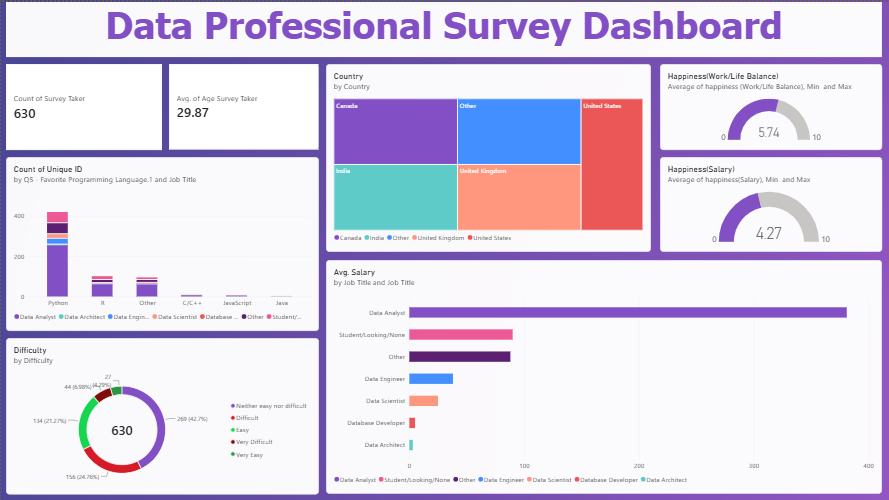

The page's visual inventory and layout, read from the dashboard file:
{"tool":"powerbi","page":{"name":"Page 1","canvas":[1920,1080],"ordinal":0},"visuals":[{"type":"textbox","box":[10.8,0,1892.2,118.8],"z":0},{"type":"cardVisual","fields":{"Data":["Count(Data Professional Survey.Unique ID)"]},"box":[10.8,133.9,337,185.8],"z":1000},{"type":"cardVisual","fields":{"Data":["Avg(Data Professional Survey.Q10 - Current Age)"]},"box":[363.5,133.9,323.1,185],"z":2000},{"type":"barChart","fields":{"Category":["Data Professional Survey.Q1 - Which Title Best Fits your Current Role?.1"],"Series":["Data Professional Survey.Q1 - Which Title Best Fits your Current Role?.1"],"Y":["CountNonNull(Data Professional Survey.Average Salary)"]},"box":[702,557.3,1201,505.4],"z":3000},{"type":"columnChart","fields":{"Category":["Data Professional Survey.Q5 - Favorite Programming Language.1"],"Series":["Data Professional Survey.Q1 - Which Title Best Fits your Current Role?.1"],"Y":["CountNonNull(Data Professional Survey.Unique ID)"]},"box":[10.6,333.8,676.1,376.3],"z":4000},{"type":"treemap","fields":{"Group":["Data Professional Survey.Q11 - Which Country do you live in?.1"],"Values":["Count(Data Professional Survey.Q11 - Which Country do you live in?.1)"]},"box":[701.6,133.9,701.6,406.1],"z":5000},{"type":"gauge","title":"Happiness(Work/Life Balance)","fields":{"MaxValue":["Max(Data Professional Survey.Q6 - How Happy are you in your Current Position with the following? (Work/Life Balance))"],"MinValue":["Min(Data Professional Survey.Q6 - How Happy are you in your Current Position with the following? (Work/Life Balance))"],"Y":["Avg(Data Professional Survey.Q6 - How Happy are you in your Current Position with the following? (Work/Life Balance))"]},"box":[1423.4,133.9,479.5,185.8],"z":6000},{"type":"gauge","title":"Happiness(Salary)","fields":{"MaxValue":["Max(Data Professional Survey.Q6 - How Happy are you in your Current Position with the following? (Salary))"],"MinValue":["Min(Data Professional Survey.Q6 - How Happy are you in your Current Position with the following? (Salary))"],"Y":["Avg(Data Professional Survey.Q6 - How Happy are you in your Current Position with the following? (Salary))"]},"box":[1423.4,334.8,479.5,205.2],"z":6001},{"type":"donutChart","fields":{"Category":["Data Professional Survey.Q7 - How difficult was it for you to break into Data?"],"Y":["CountNonNull(Data Professional Survey.Q7 - How difficult was it for you to break into Data?)"]},"box":[10.6,725,676.1,338],"z":6002}]}

Visuals, with their boxes in screenshot pixels (x1, y1, x2, y2), scaled from the page's 1920x1080 canvas onto the 889x500 screenshot:
textbox: BBox(5, 0, 881, 55)
cardVisual - Count(Data Professional Survey.Unique ID): BBox(5, 62, 161, 148)
cardVisual - Avg(Data Professional Survey.Q10 - Current Age): BBox(168, 62, 318, 148)
barChart - Data Professional Survey.Q1 - Which Title Best Fits your Current Role?.1 x Data Professional Survey.Q1 - Which Title Best Fits your Current Role?.1: BBox(325, 258, 881, 492)
columnChart - Data Professional Survey.Q5 - Favorite Programming Language.1 x Data Professional Survey.Q1 - Which Title Best Fits your Current Role?.1: BBox(5, 155, 318, 329)
treemap - Data Professional Survey.Q11 - Which Country do you live in?.1 x Count(Data Professional Survey.Q11 - Which Country do you live in?.1): BBox(325, 62, 650, 250)
"Happiness(Work/Life Balance)" gauge: BBox(659, 62, 881, 148)
"Happiness(Salary)" gauge: BBox(659, 155, 881, 250)
donutChart - Data Professional Survey.Q7 - How difficult was it for you to break into Data? x CountNonNull(Data Professional Survey.Q7 - How difficult was it for you to break into Data?): BBox(5, 336, 318, 492)
